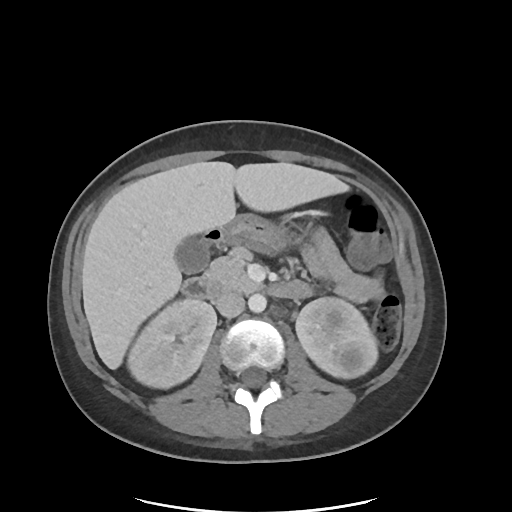Lesion: (336, 347, 368, 373)
